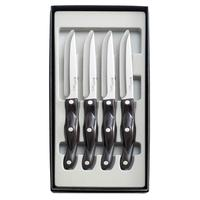knife: (114, 26, 145, 170), (78, 27, 101, 173), (58, 28, 80, 170), (99, 28, 120, 176)
